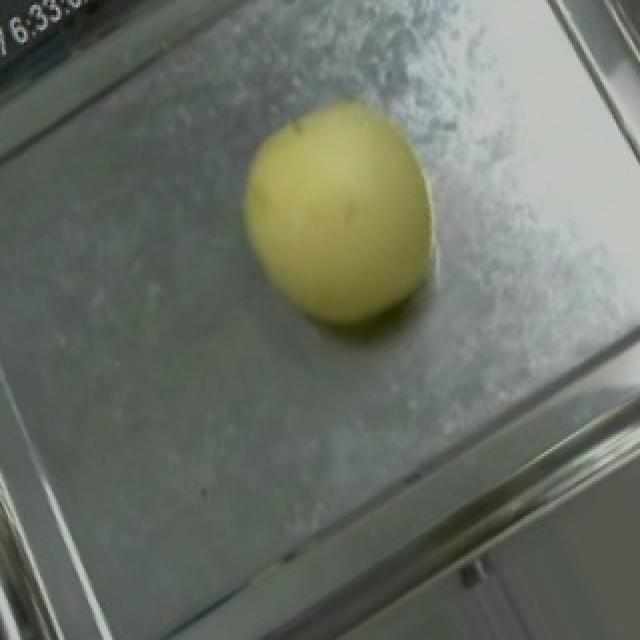Fruit: (198, 62, 488, 372)
